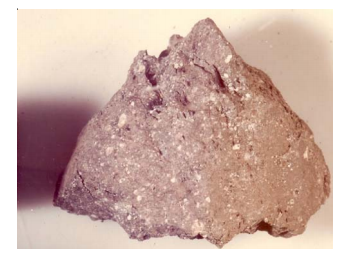Breccia: (64, 20, 322, 239), (105, 44, 288, 225)
